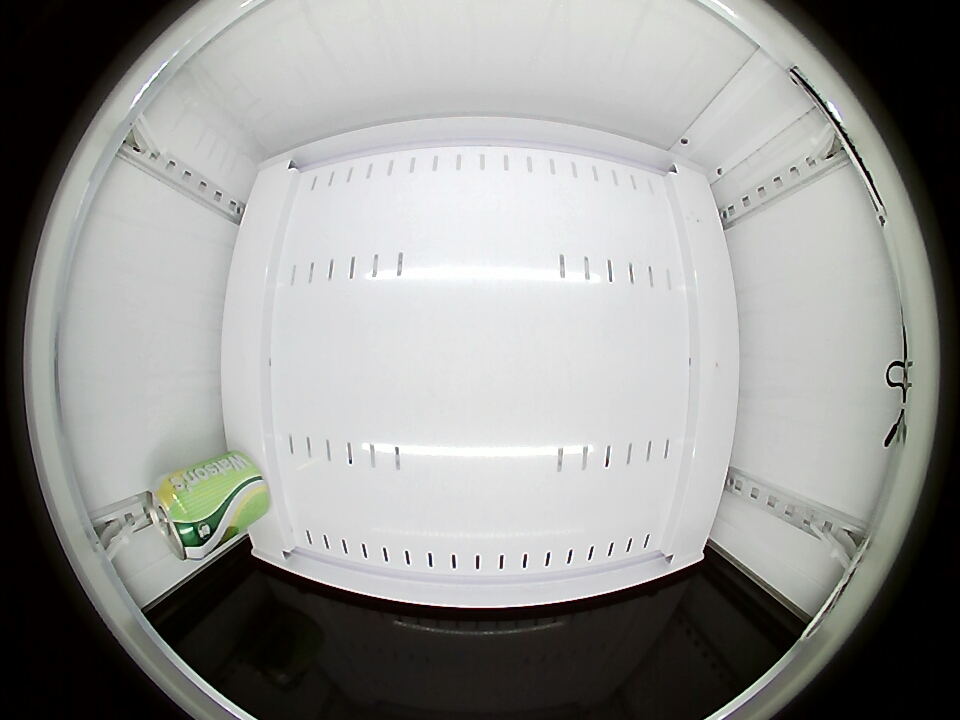quchenshixiangcao: (145, 476, 211, 561)
